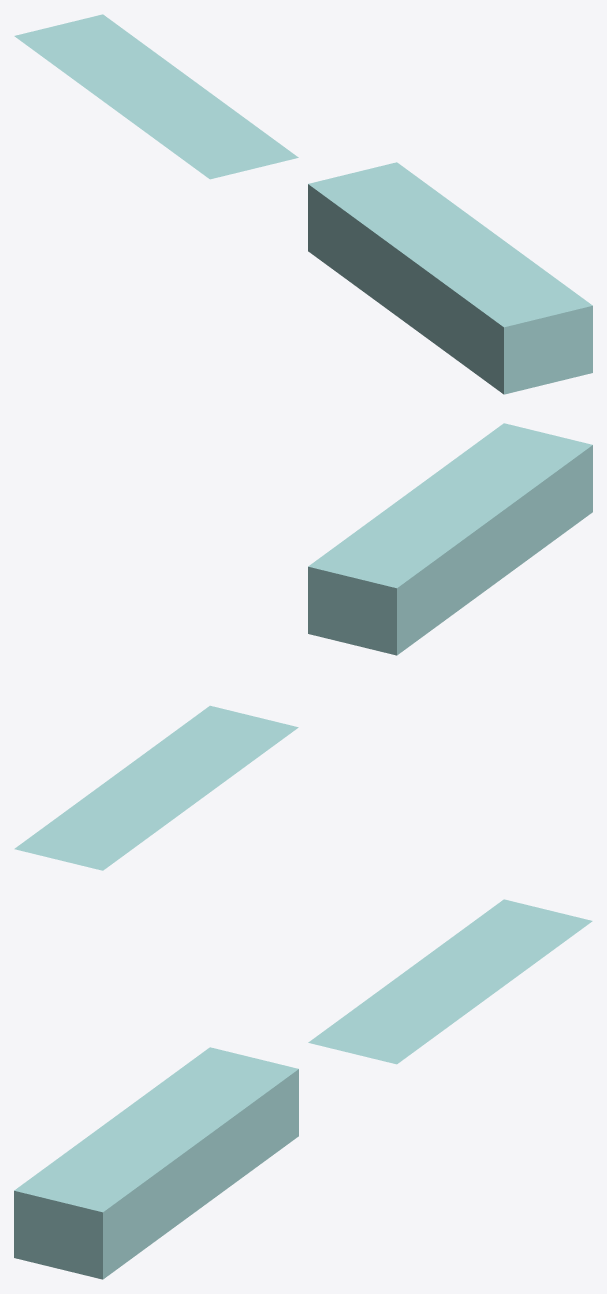
Rendered from Center_Outer_Channel_01.fbx.
The picture shows the model from 3 angles, top to bottom: view 1: azimuth 30°, elevation 25°; view 2: azimuth 150°, elevation 25°; view 3: azimuth 330°, elevation 25°; orthographic projection.
Parts seen in each view (by area): view 1: Center_Outer_Channel_01, Center_Ring_Outer_Floor_01; view 2: Center_Outer_Channel_01, Center_Ring_Outer_Floor_01; view 3: Center_Outer_Channel_01, Center_Ring_Outer_Floor_01.
Boxes of the visible parts, box(x1,y1,x2,y2) form: Center_Outer_Channel_01: box(308, 162, 592, 394); Center_Ring_Outer_Floor_01: box(14, 14, 298, 179); Center_Outer_Channel_01: box(308, 423, 592, 655); Center_Ring_Outer_Floor_01: box(14, 705, 298, 870); Center_Outer_Channel_01: box(14, 1047, 298, 1279); Center_Ring_Outer_Floor_01: box(308, 899, 592, 1064).
Bounding box in the file's own units: 12.3 × 8.89 × 117.
